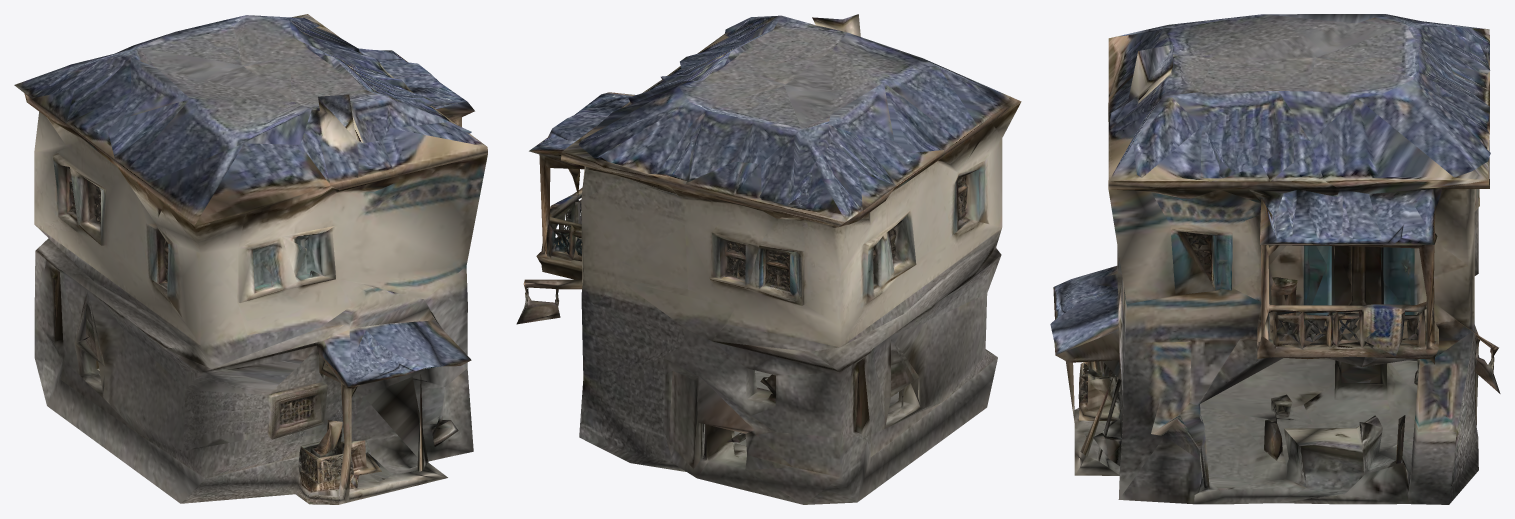
Rendered from house_craftsman_0_alt.glb.
The picture shows the model from 3 angles, left to right: view 1: azimuth 30°, elevation 25°; view 2: azimuth 150°, elevation 25°; view 3: azimuth 270°, elevation 25°; orthographic projection. The views are drawn at different scales.
Visible parts, largest first — view 1: house_craftsman_0_alt; view 2: house_craftsman_0_alt; view 3: house_craftsman_0_alt.
Part boxes in pixels (<box>): house_craftsman_0_alt: <box>14,14,487,504</box>; house_craftsman_0_alt: <box>516,14,1021,504</box>; house_craftsman_0_alt: <box>1050,14,1500,504</box>.
Size of the model in its own units: 0.9324 by 0.9372 by 0.9752.
Materials: 1 (1 with a texture image).
